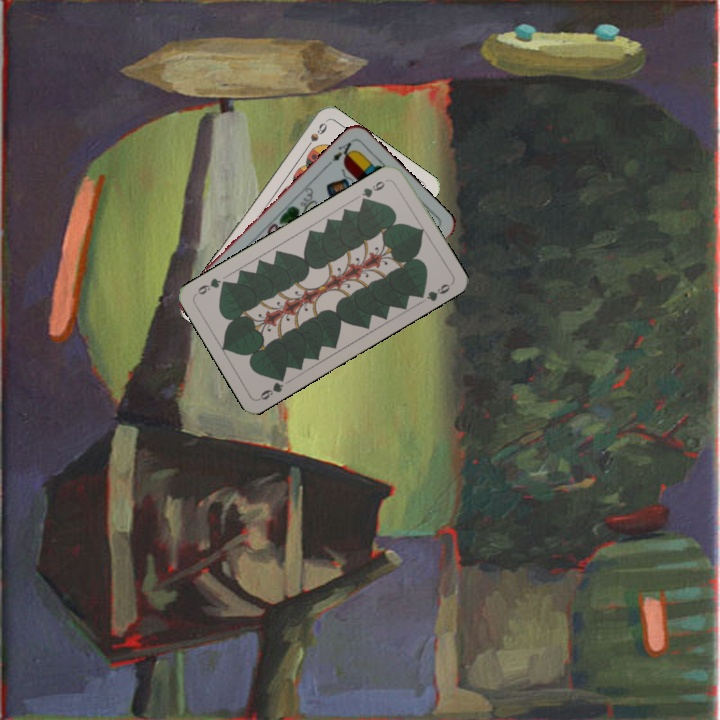EA: (329, 135, 358, 164)
G9: (255, 371, 288, 403), (357, 175, 391, 205)
S9: (301, 118, 330, 154)
